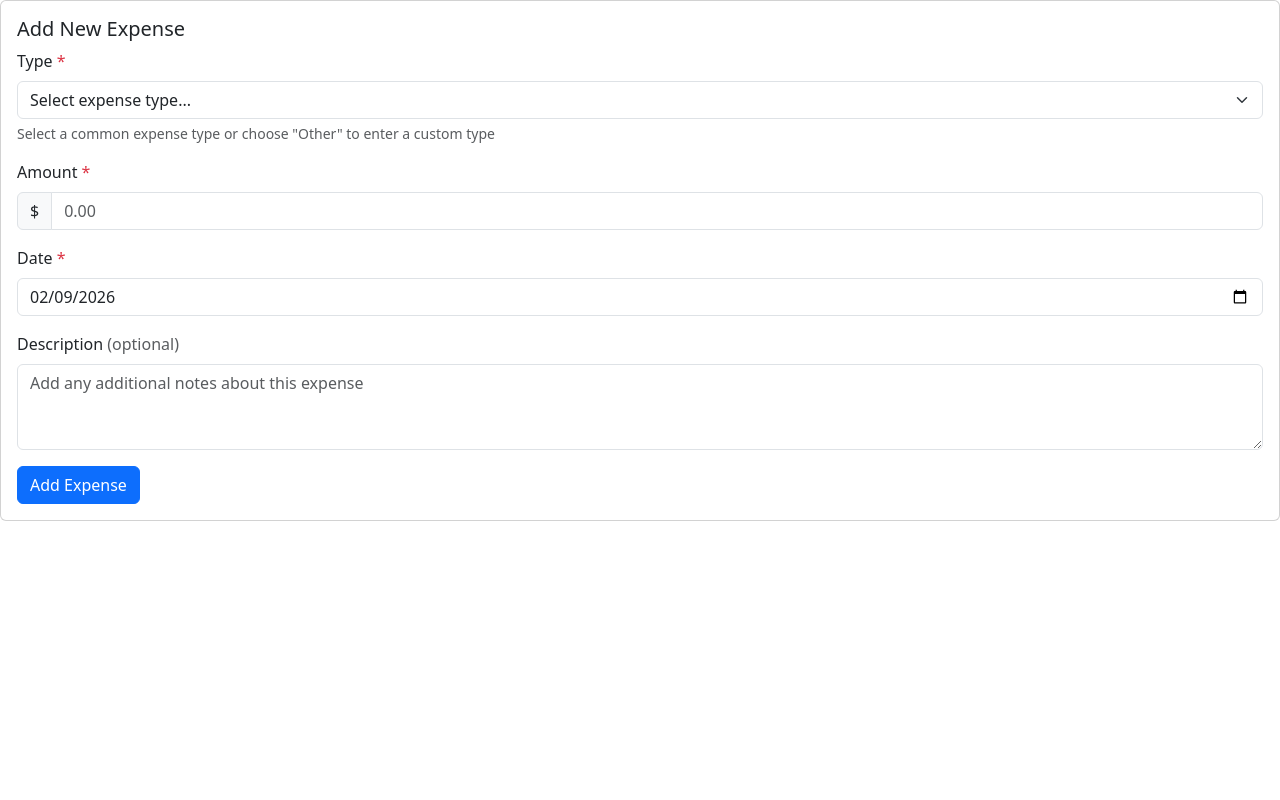
Test: ExpenseForm › Create Mode › displays validation errors for empty required fields
This screenshot has width=1280, height=800.
# Fill in date to bypass HTML5 validation, but leave type and amount empty
Type "2024-01-15" into the date field labelled "Date *". click: x=640, y=297
box: [17,278,1263,316]
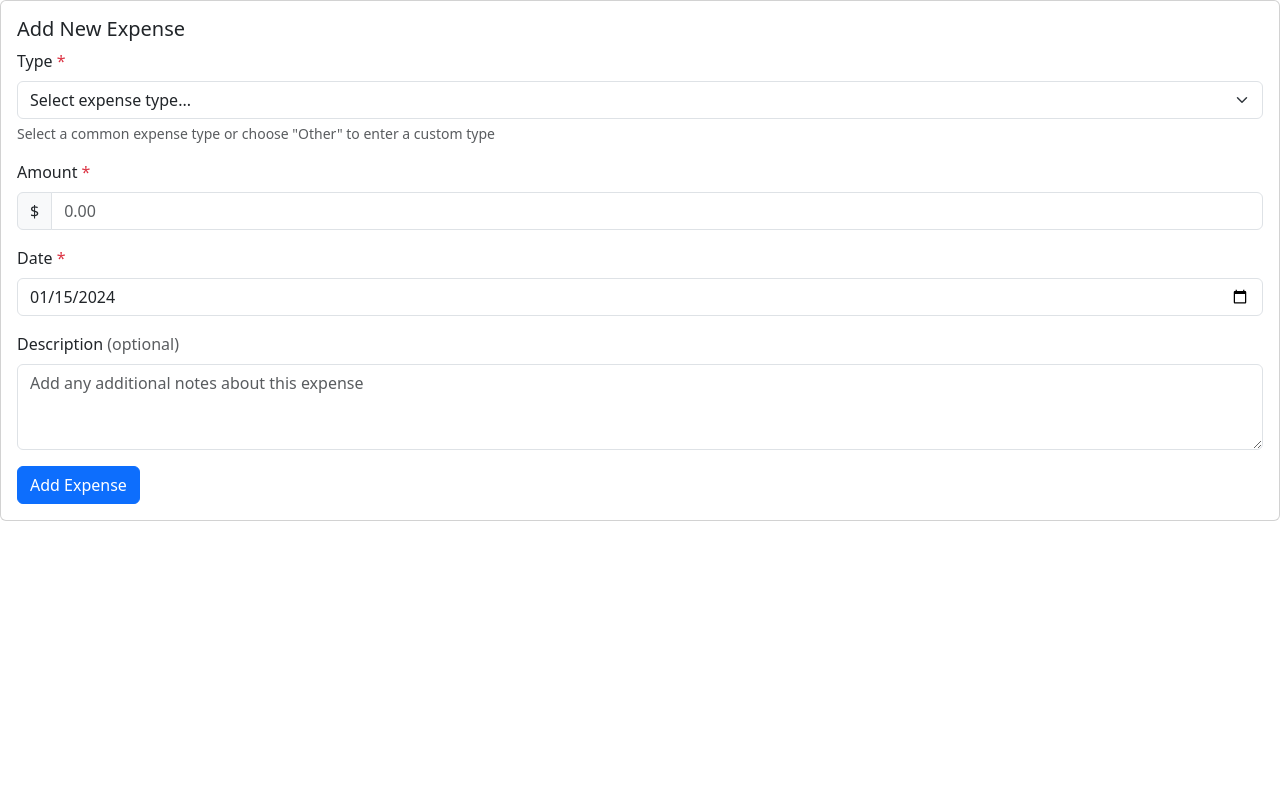
Click the button "Add Expense". click: x=78, y=485
box: [17,466,140,504]
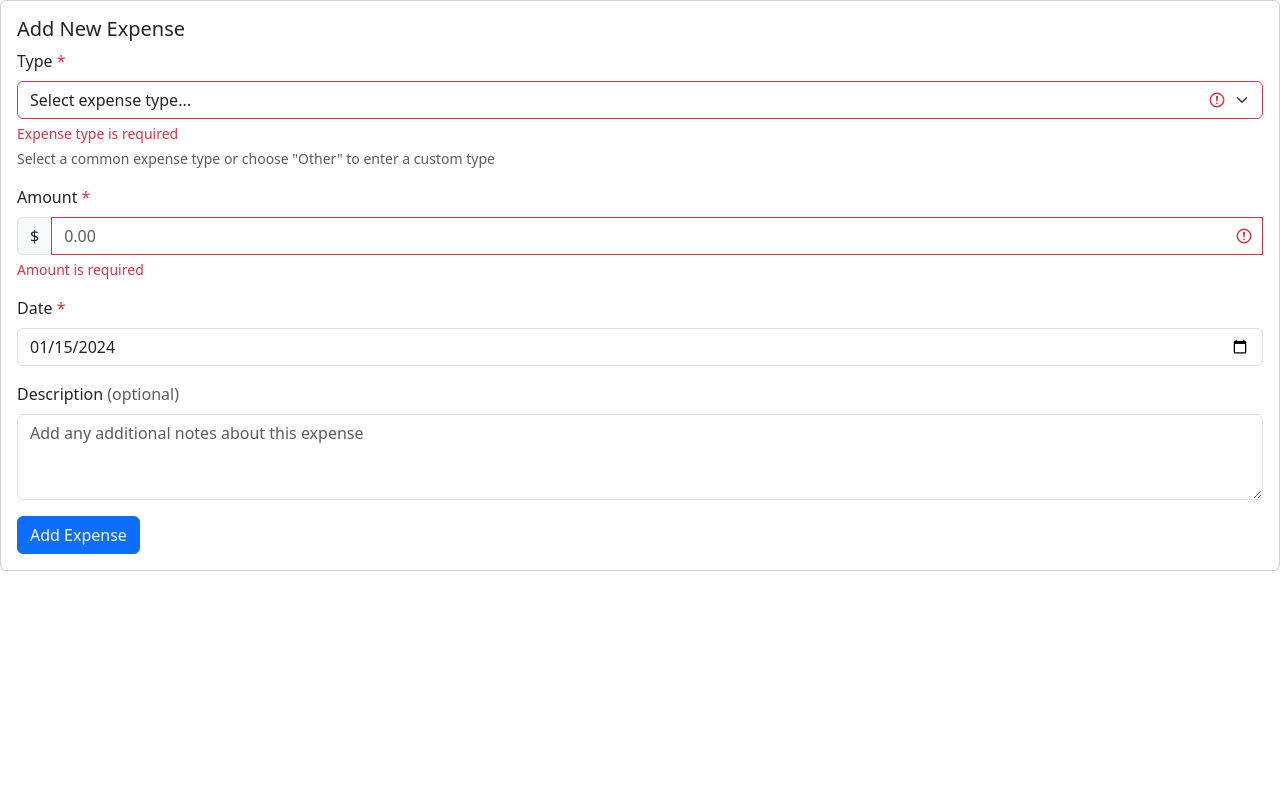
Expected: the text "Expense type is required" is shown, [17,124,178,143]
Expected: the text "Amount is required" is shown, [17,260,144,279]
